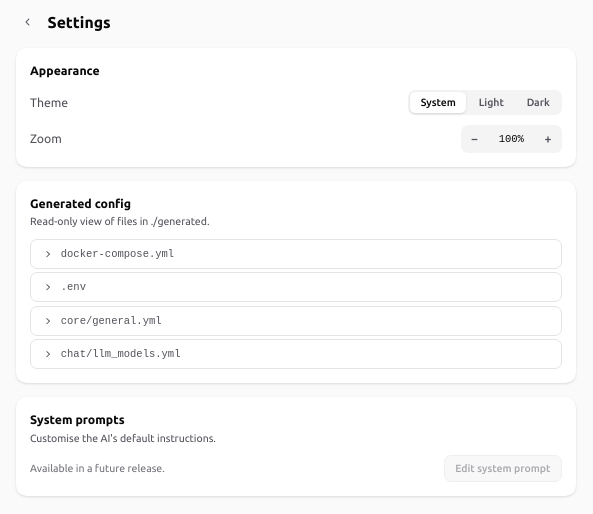
Test case: settings/+page.svelte › clicking zoom-in updates display to 110%
Click the button with test id "zoom-in" at {"x": 548, "y": 139}, box x1=536 y1=127 x2=560 y2=151
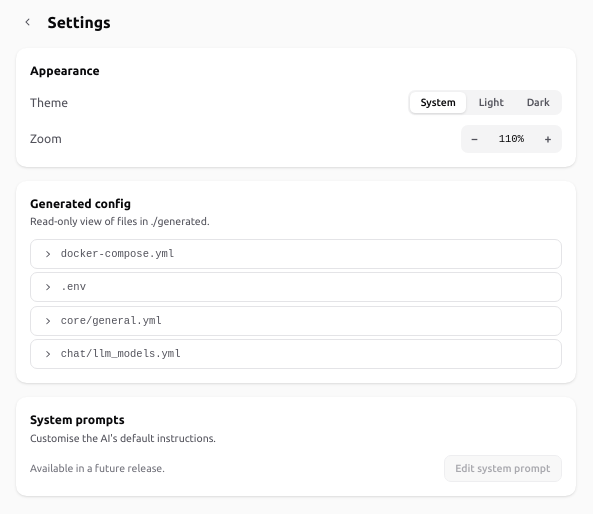
Expected: the button with test id "zoom-reset" reads "110%", x1=488 y1=130 x2=534 y2=148
